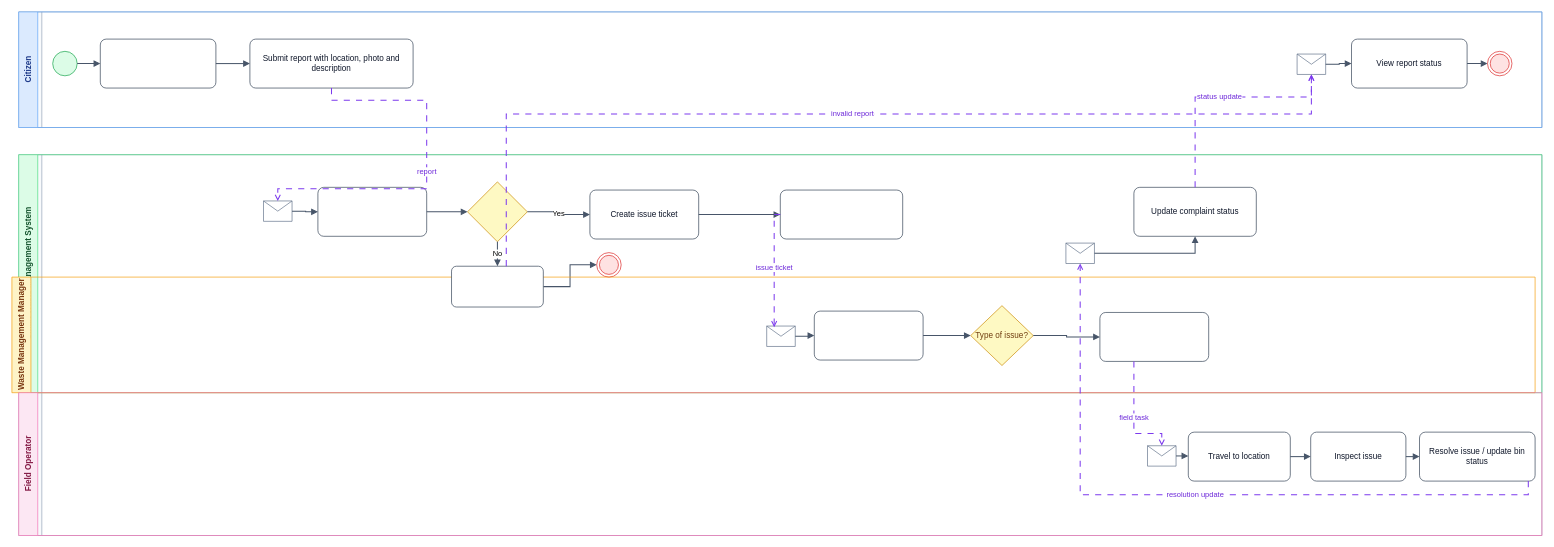
This 1554x547 diagram has some shape labels left out. The centre of each missing label's shape, as x and y in pixels:
Assign issue to manager: (x=841, y=214)
Create field task: (x=1154, y=336)
Open reporting form: (x=158, y=63)
Reject report: (x=497, y=286)
Report valid?: (x=497, y=211)
Review complaint: (x=868, y=335)
Validate report: (x=372, y=211)
